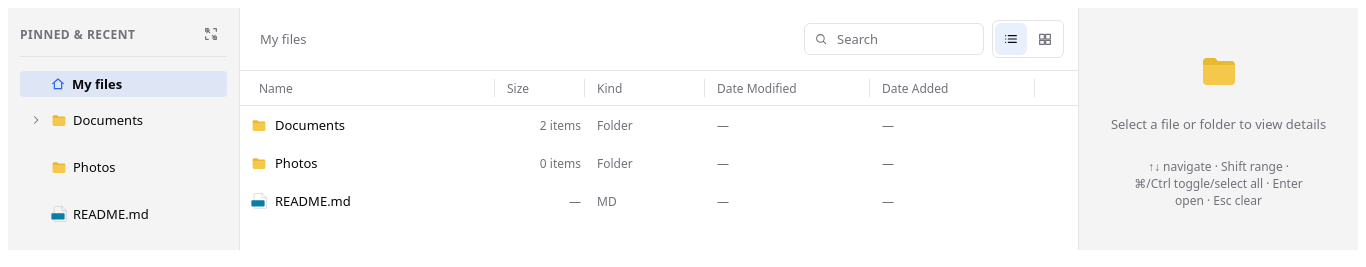
Test: FileManager characterization › filters the list by search query
Type "notes" into the search field named "Search files".
click(894, 39); type("notes")  # box [804,23,984,55]
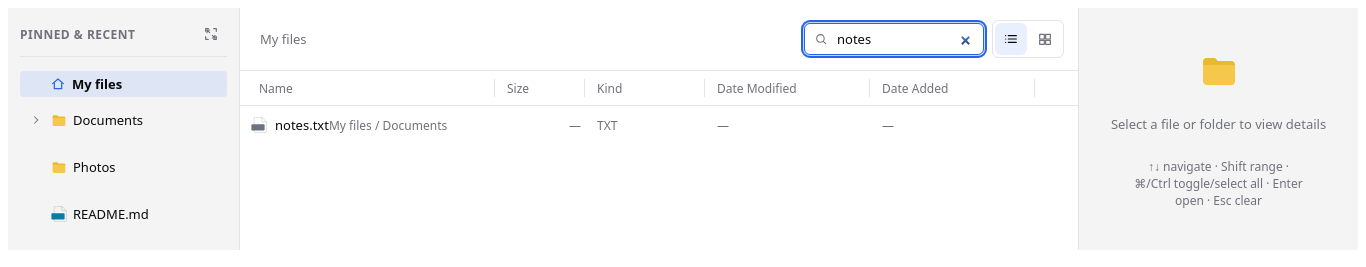
Result: the option "notes.txt" is shown at [251,116,894,134]
